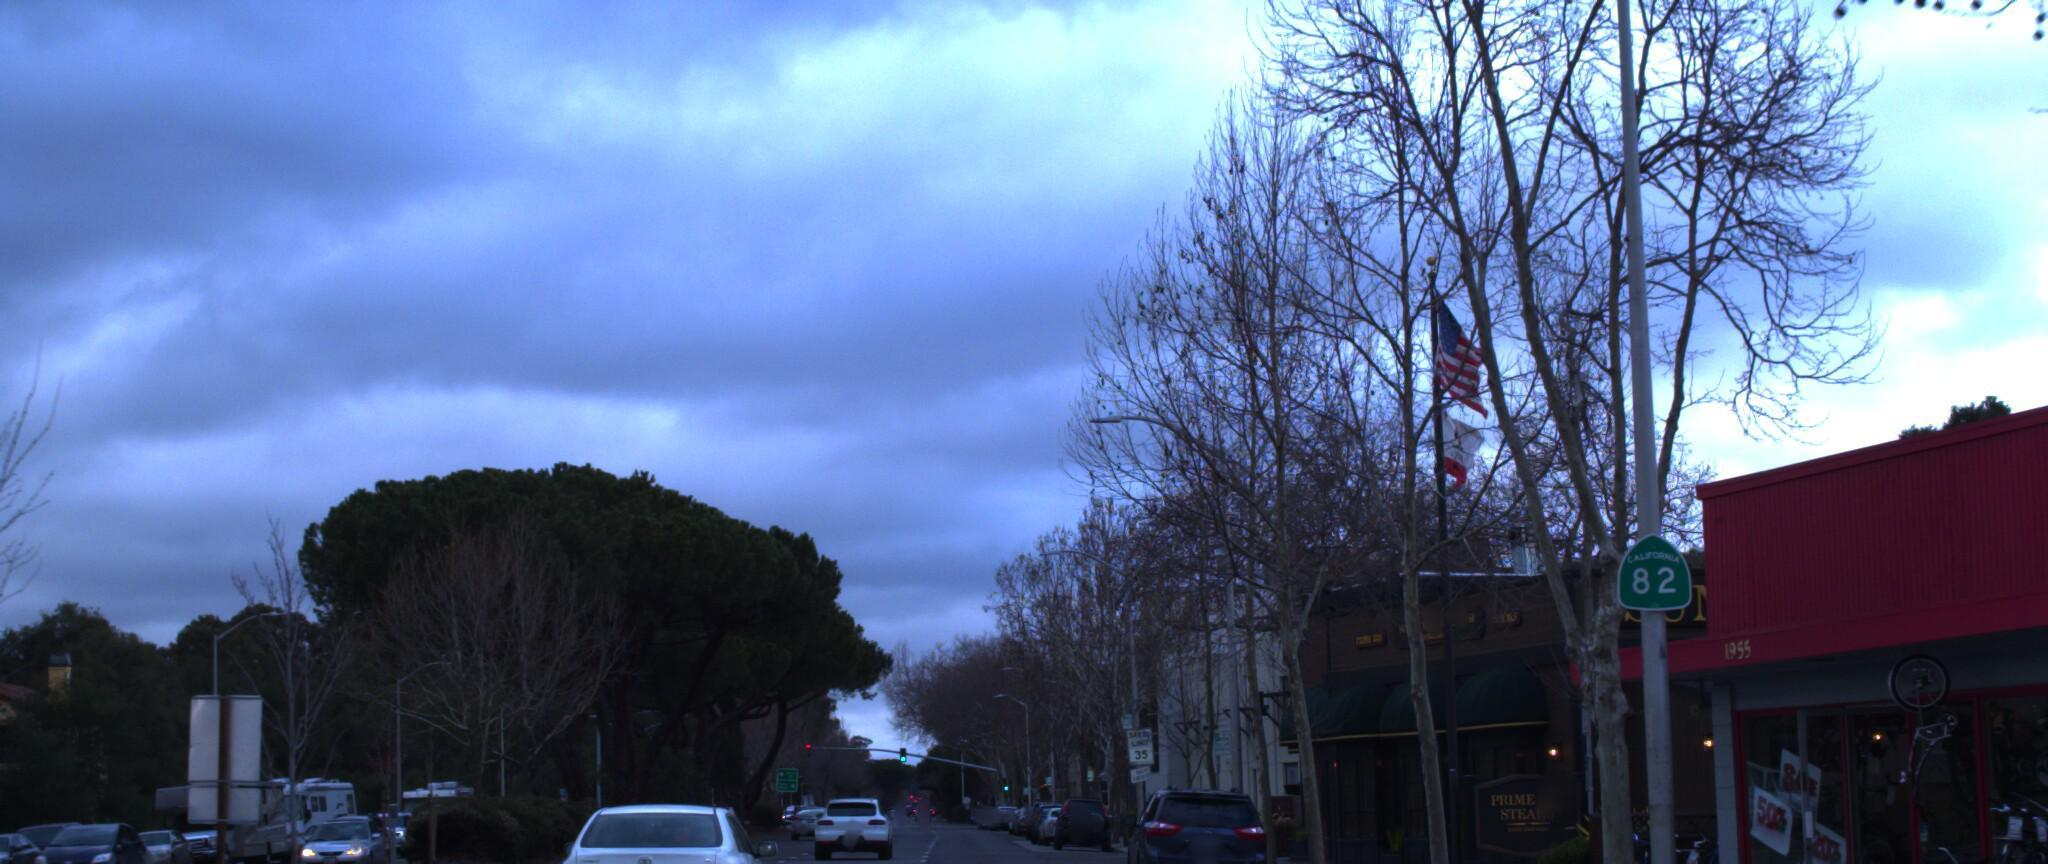bicycle: (1937, 790, 2048, 864), (1967, 788, 2048, 864), (2000, 762, 2048, 864), (1616, 821, 1724, 864), (1998, 787, 2048, 864), (2000, 786, 2048, 864)
car: (537, 787, 777, 864), (1128, 774, 1266, 864), (10, 816, 138, 864), (278, 814, 385, 864), (805, 794, 889, 854)
